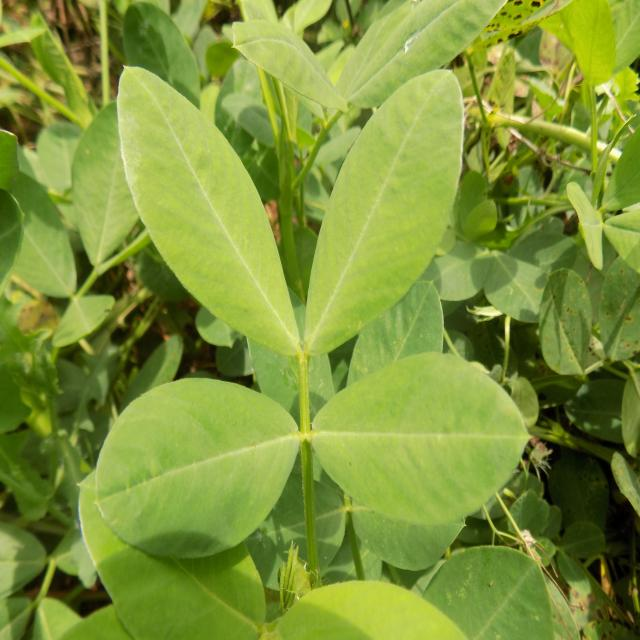Ground nut_healthy: (117, 68, 303, 359), (303, 68, 466, 356), (312, 353, 529, 527), (93, 376, 298, 555)
